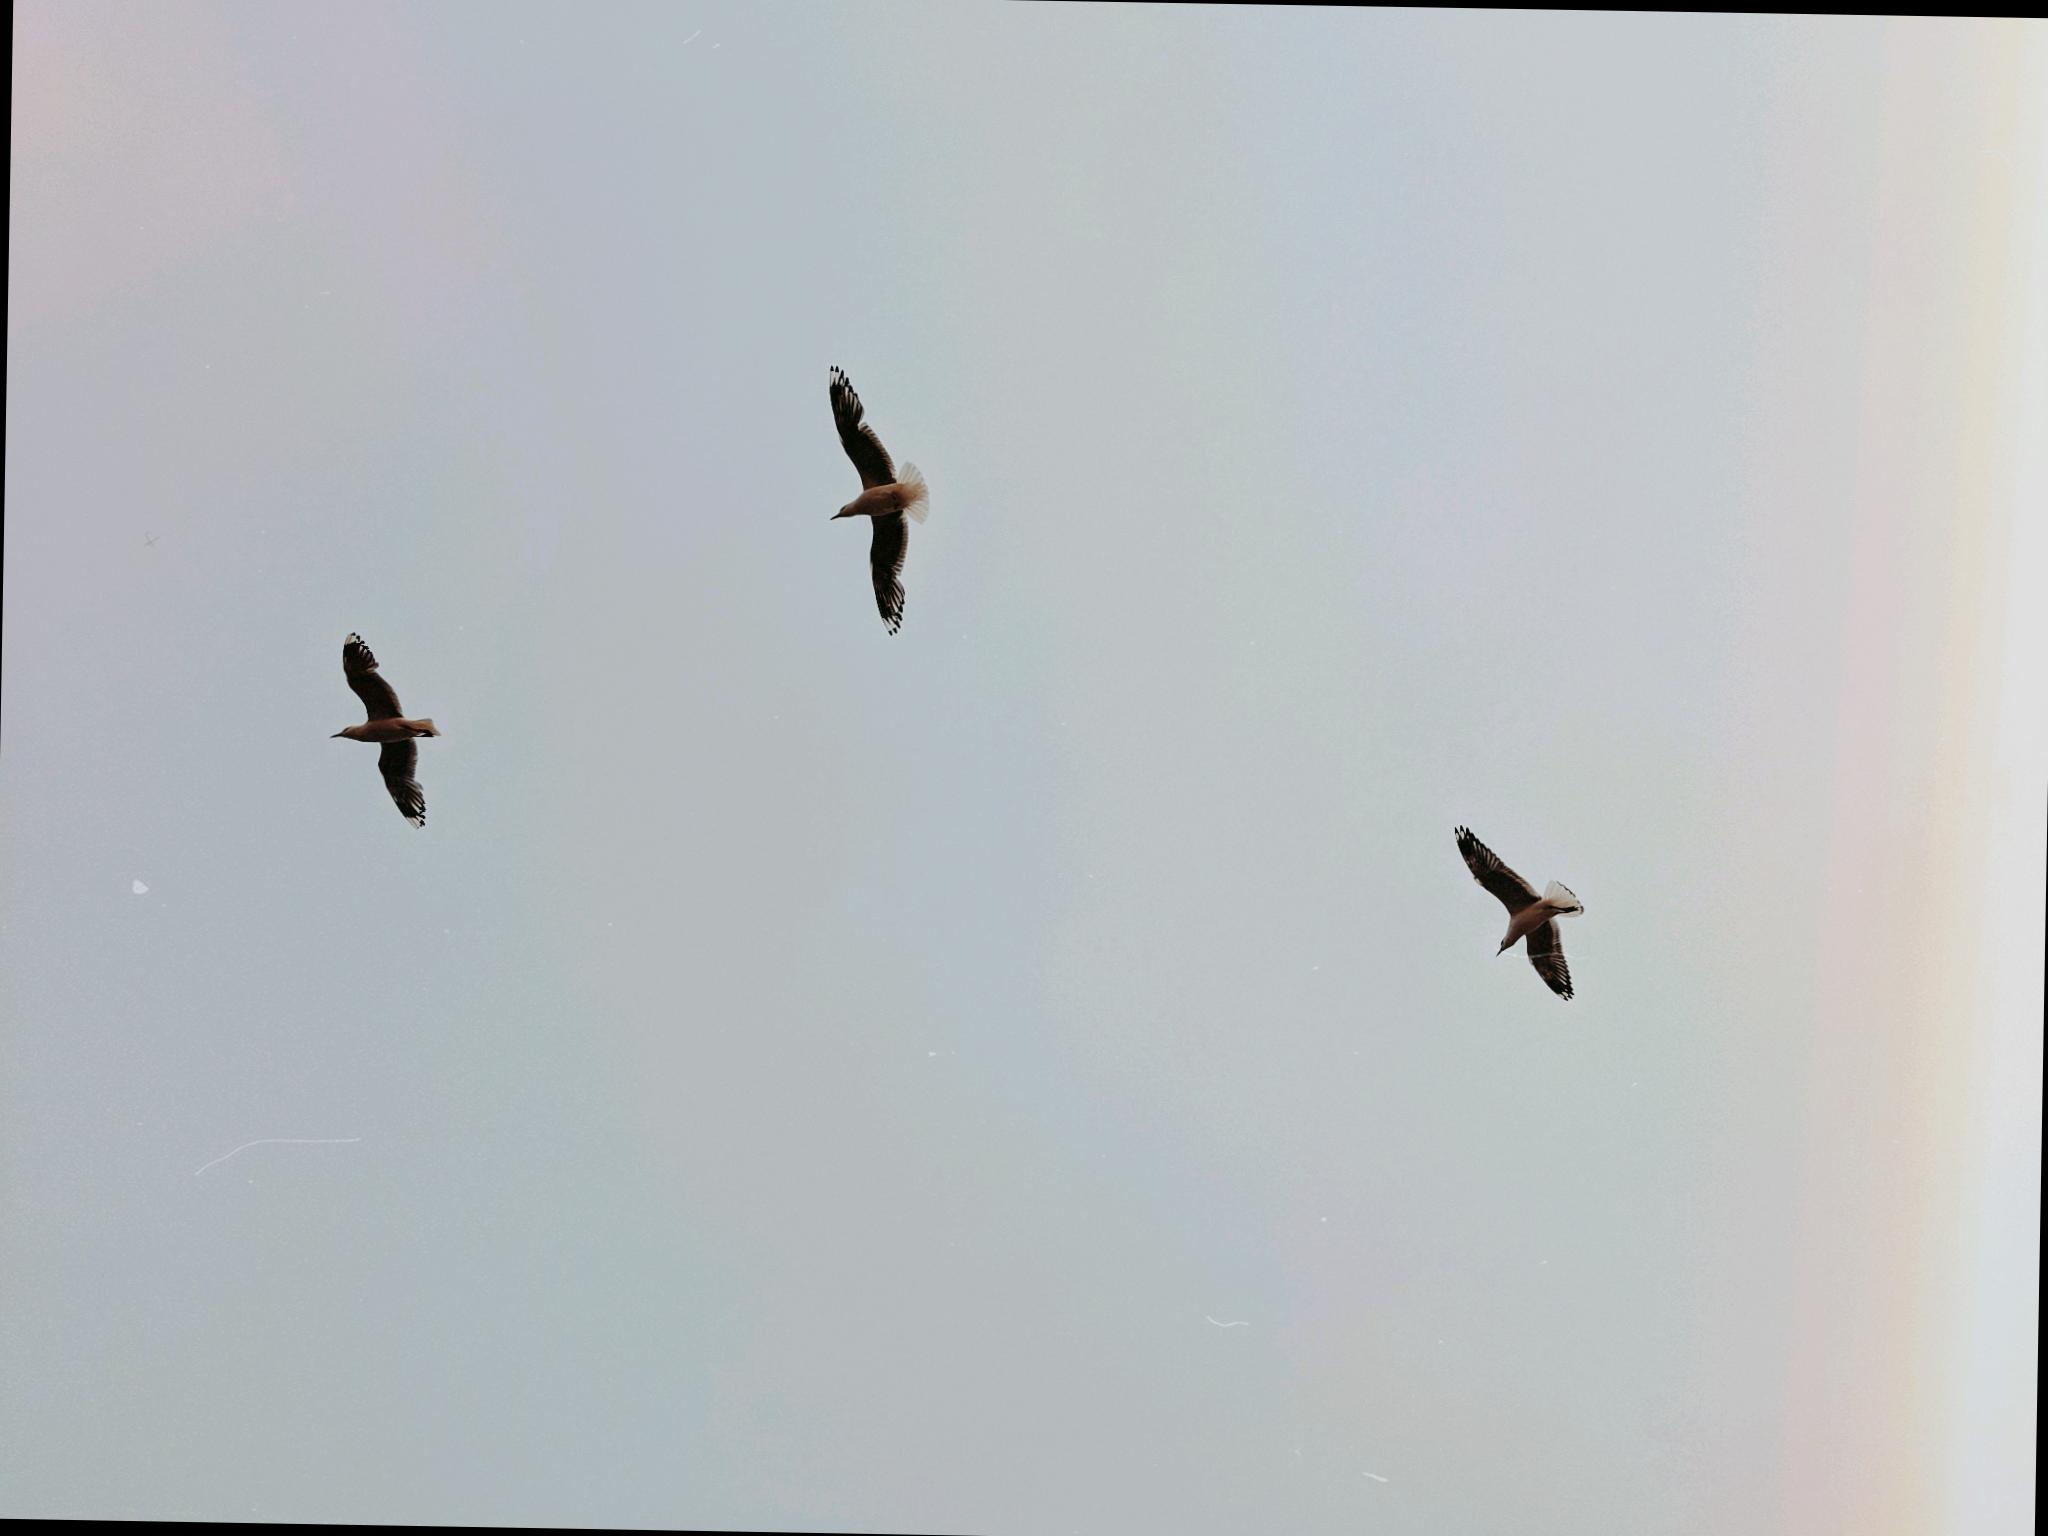bird: (282, 611, 514, 850), (790, 326, 948, 666), (1427, 810, 1632, 1008)
